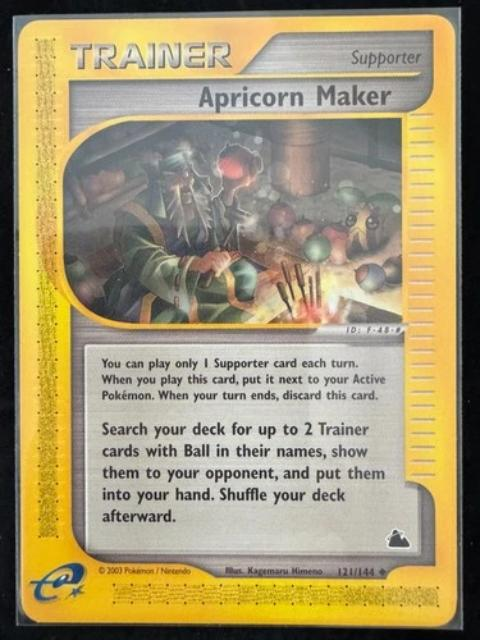Card: (14, 9, 462, 630)
Name: (190, 79, 402, 115)
